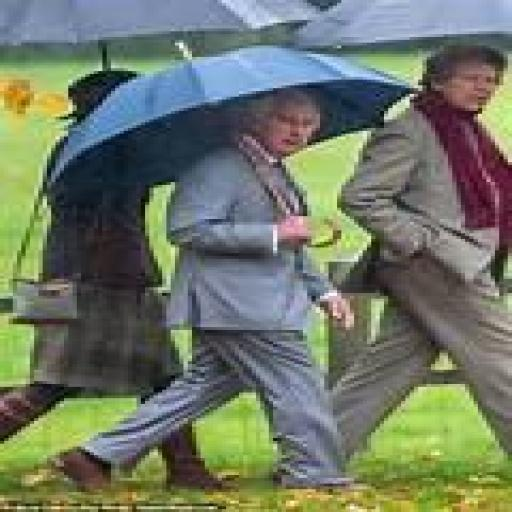guarda_chuva: (37, 59, 459, 187), (0, 0, 333, 71)
